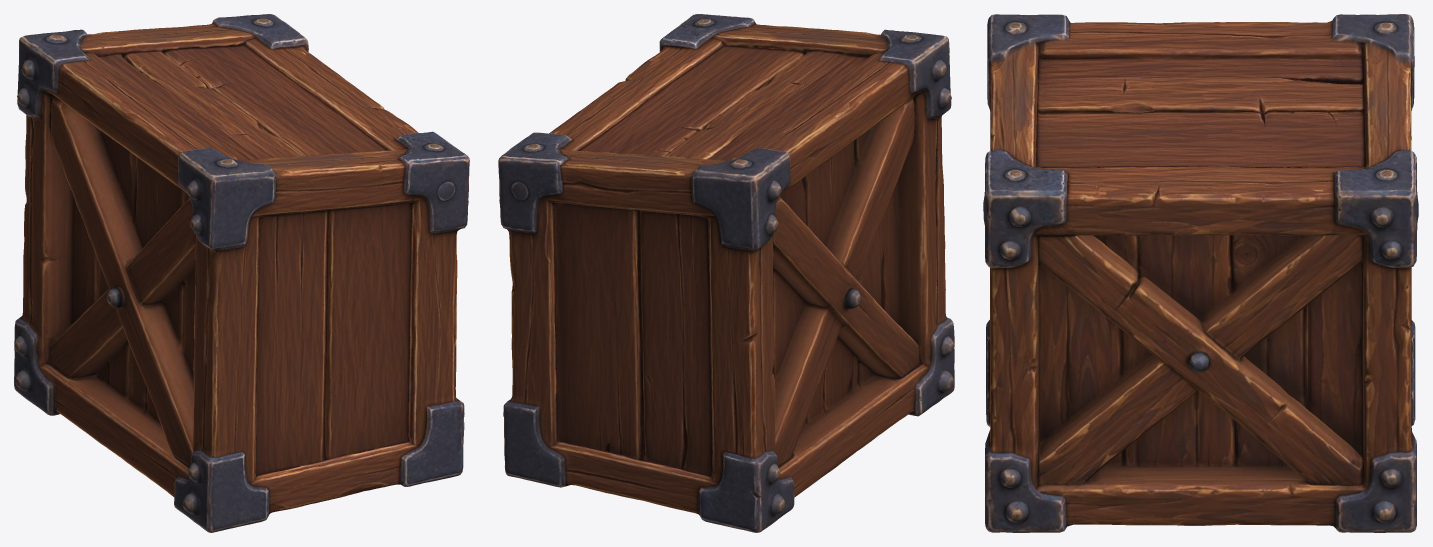
3 views of the same model, side by side, from view 1: azimuth 30°, elevation 25°; view 2: azimuth 150°, elevation 25°; view 3: azimuth 270°, elevation 25° (orthographic). The views are drawn at different scales.
Visible parts, largest first — view 1: tripo_node_2236a972-f3de-4774-abdf-5561e3646c34; view 2: tripo_node_2236a972-f3de-4774-abdf-5561e3646c34; view 3: tripo_node_2236a972-f3de-4774-abdf-5561e3646c34.
Boxes of the visible parts, x1,y1,x2,y2 form: tripo_node_2236a972-f3de-4774-abdf-5561e3646c34: (14,14,469,532); tripo_node_2236a972-f3de-4774-abdf-5561e3646c34: (498,14,954,532); tripo_node_2236a972-f3de-4774-abdf-5561e3646c34: (983,14,1418,532).
Bounding box in the file's own units: 0.7911 × 0.977 × 0.9791.
Materials: 1 (1 with a texture image).
